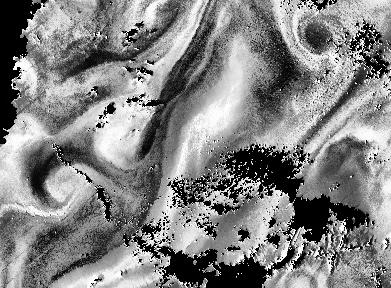CE: (37, 160, 90, 213), (288, 11, 343, 53)
